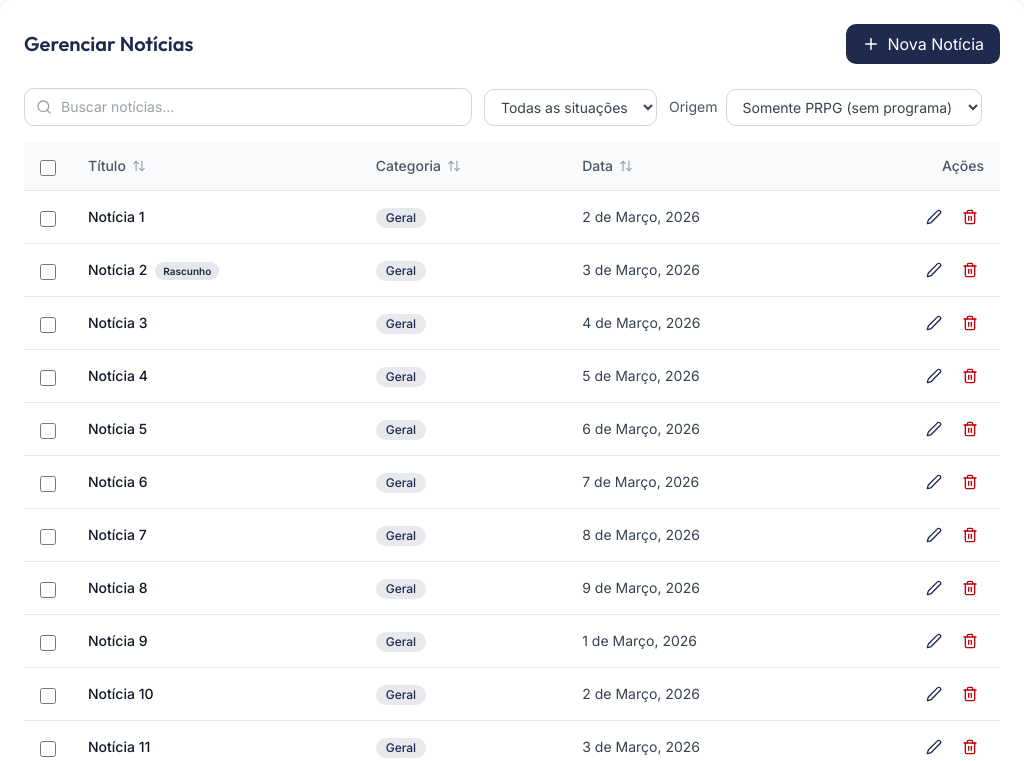
Test: tabela única do painel (U.3) › seleção em massa marca os itens da página e oferece excluir os selecionados
Click the checkbox named "Selecionar todos": (48, 168) 40,160 -> 56,176
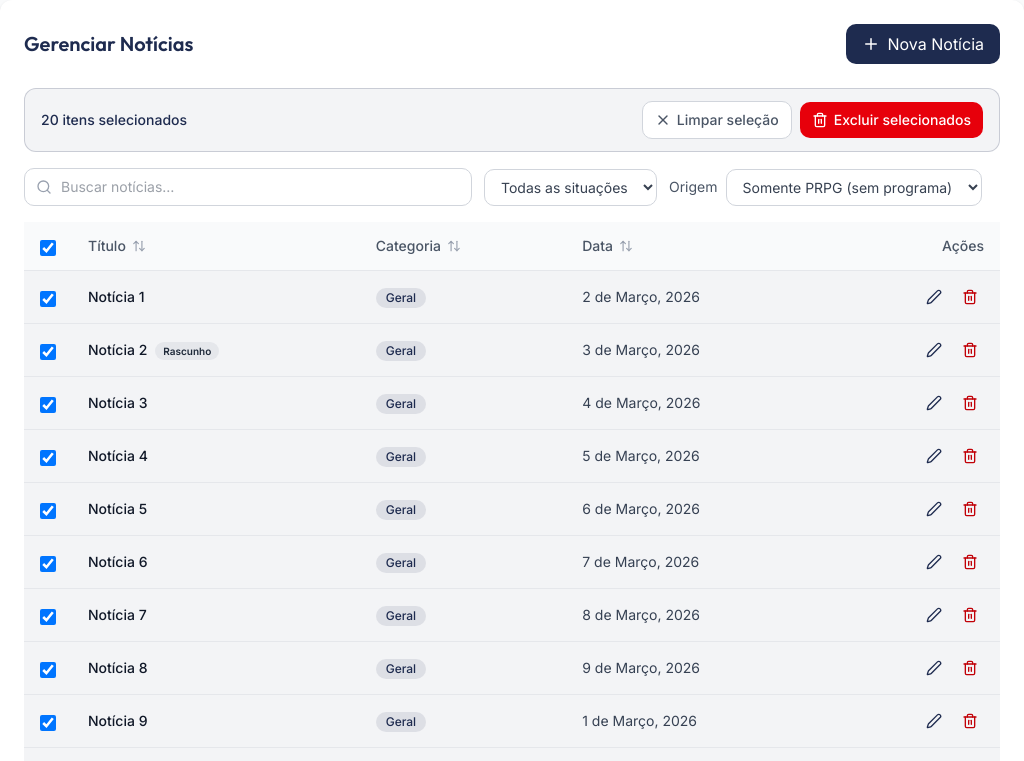
Result: the text "20 itens selecionados" is shown at 41,110 -> 187,130
Result: the text "Excluir selecionados" is shown at 800,102 -> 983,138
